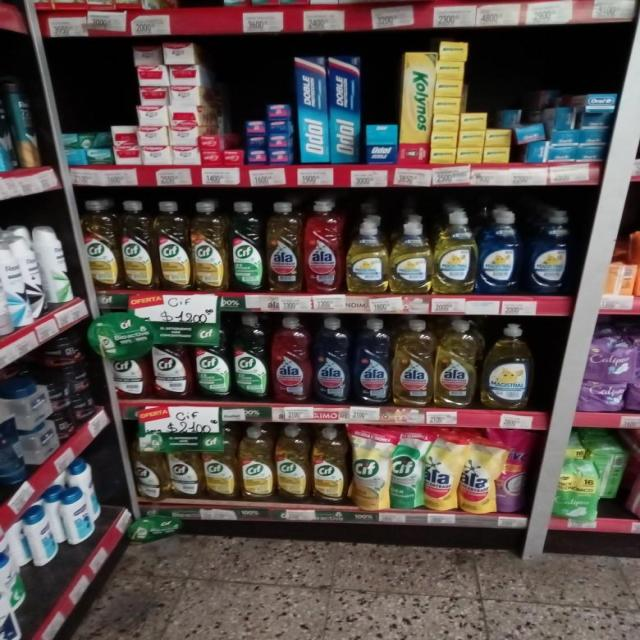ala_conc_amarillo: (436, 320, 478, 408), (393, 318, 433, 408), (266, 200, 302, 294)
ala_conc_azul: (354, 318, 391, 407), (314, 316, 351, 405)
ala_conc_rojo: (304, 199, 343, 295), (272, 315, 312, 404)
cif_conc_bot_amarilla: (191, 200, 227, 292), (84, 198, 119, 292), (155, 202, 190, 292), (121, 202, 154, 290), (312, 426, 348, 505), (203, 424, 238, 501), (239, 426, 274, 501), (276, 424, 309, 502), (131, 428, 166, 499), (168, 428, 201, 499)
cif_conc_botella_roja: (152, 316, 192, 400), (107, 350, 149, 400)
cif_conc_botella_verde: (229, 201, 264, 293), (233, 314, 269, 402), (194, 313, 230, 401)
cif_conc_sachet_amarillo: (351, 424, 390, 509)
magistral_con_amarillo: (483, 322, 534, 410), (434, 210, 476, 295), (390, 216, 432, 295), (346, 218, 388, 295)
magistral_con_azul: (527, 208, 572, 296), (479, 208, 523, 296)
